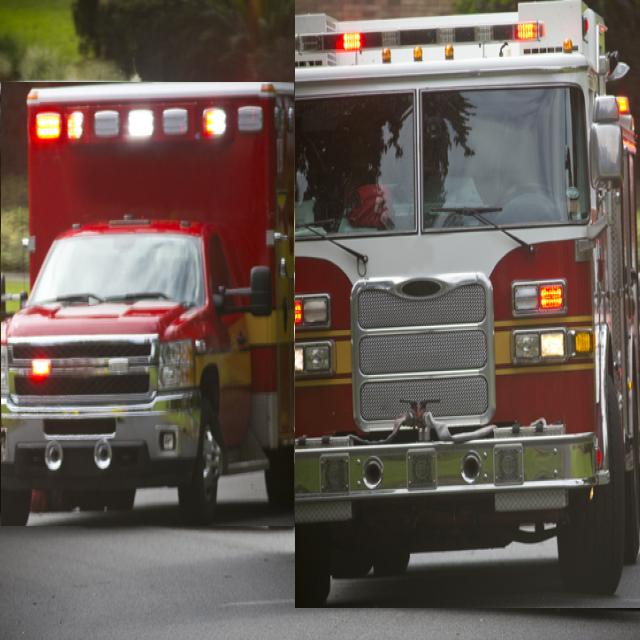emergency: (295, 0, 640, 608), (0, 82, 294, 526)
